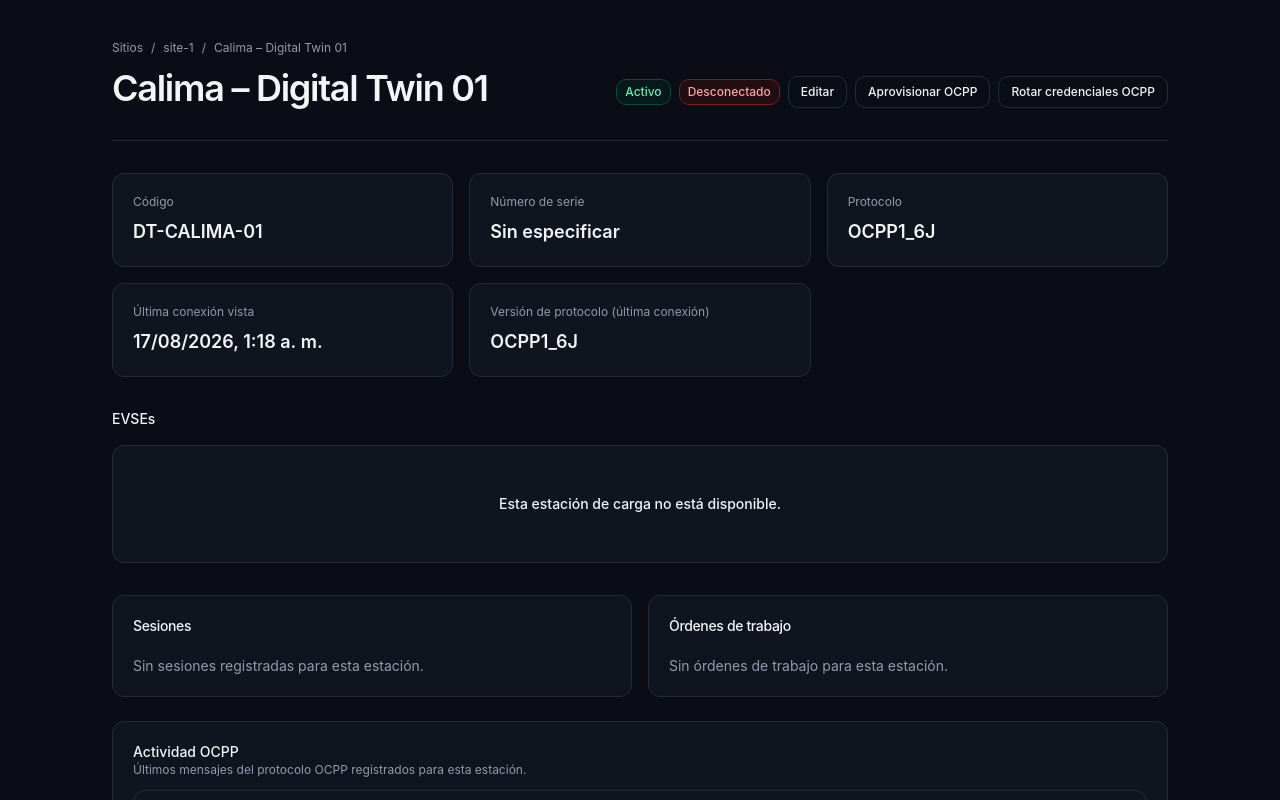
ChargingStationDetailPage — credential rotation flow › closing the result modal removes the secret from the DOM
Click the button "Rotar credenciales OCPP" at x=1083, y=92, box [998,76,1168,108]
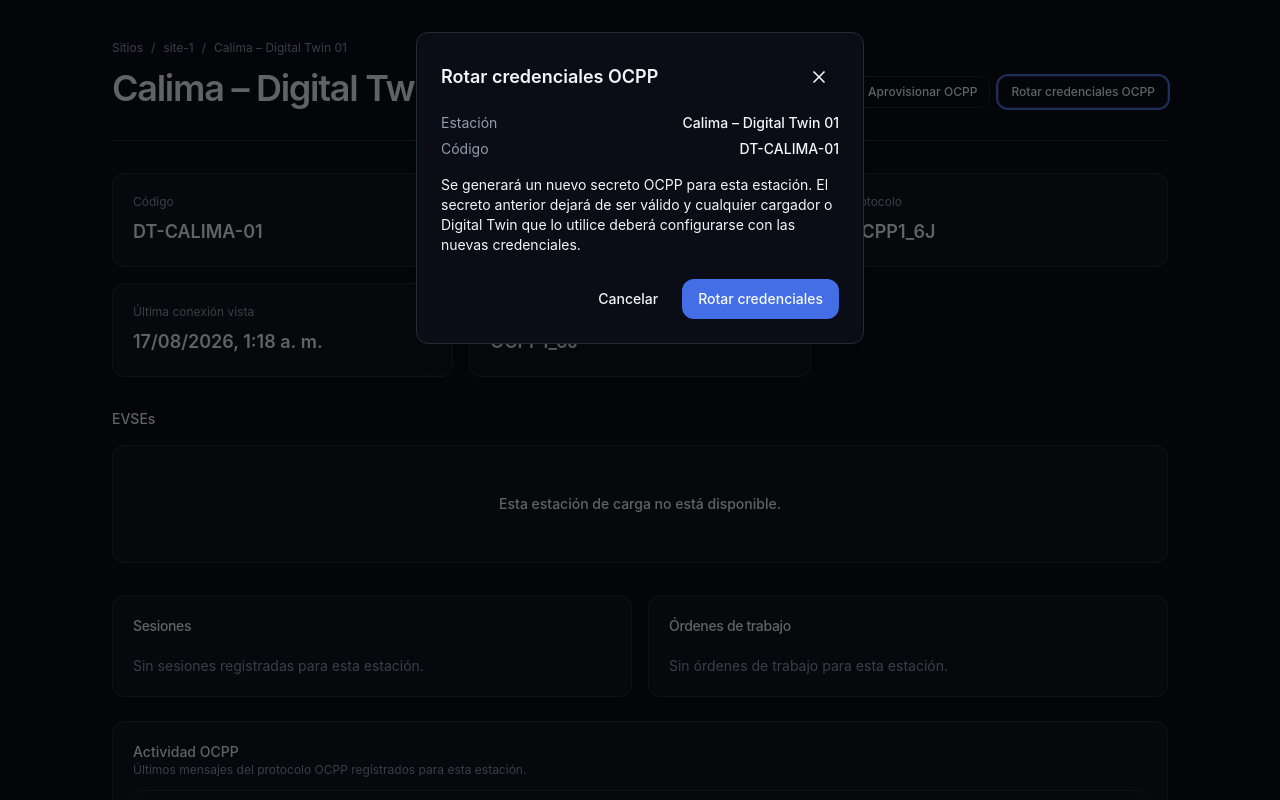
Click the button "Rotar credenciales" at x=761, y=299, box [682,279,839,319]
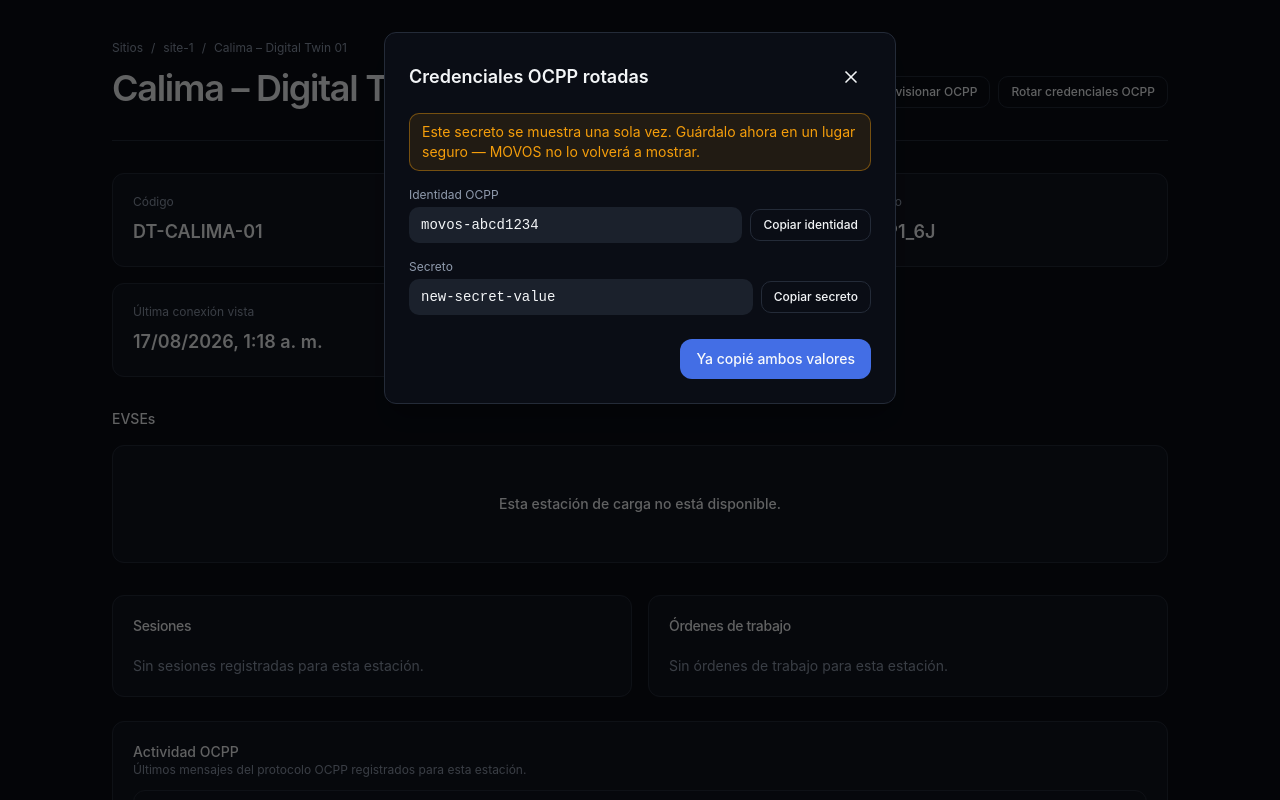
Now the text "new-secret-value" is shown, box [409,279,753,315]
Click the button "Ya copié ambos valores" at x=776, y=359, box [680,339,871,379]
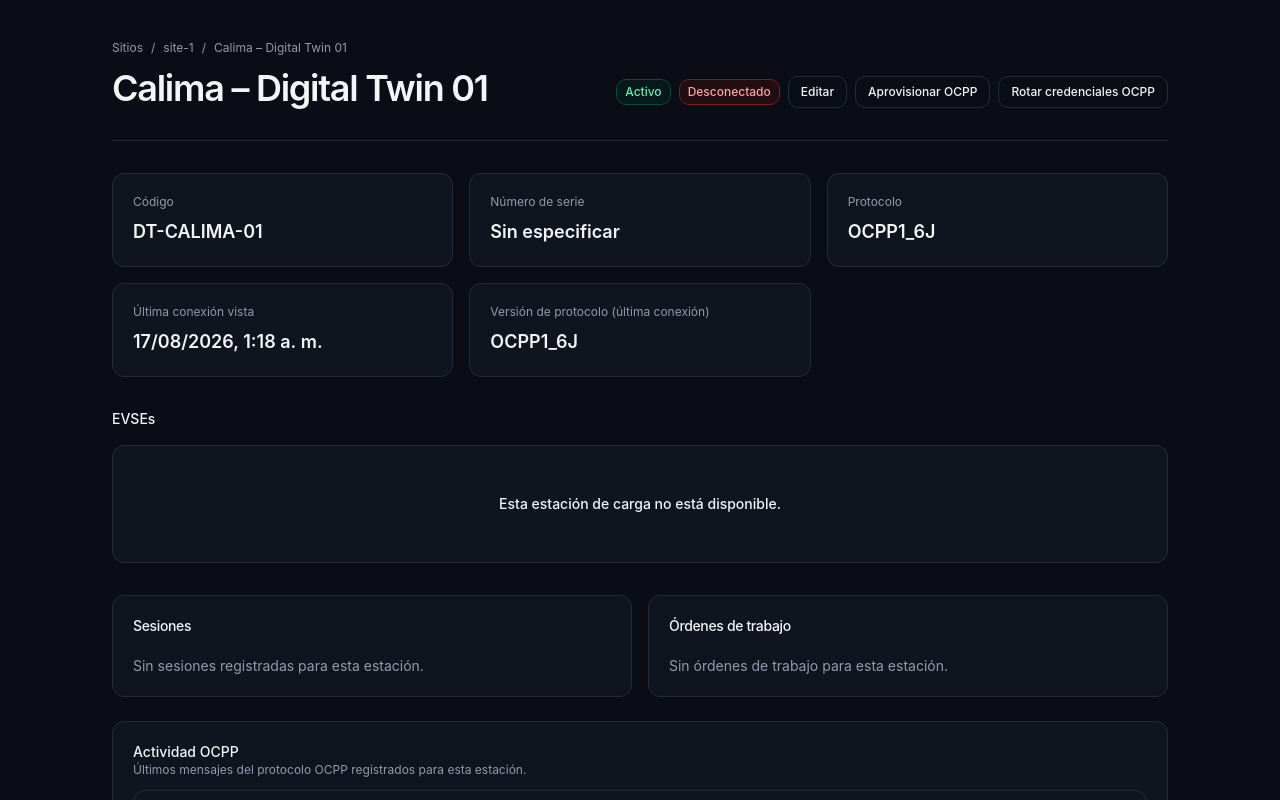
Now the text "new-secret-value" is gone
